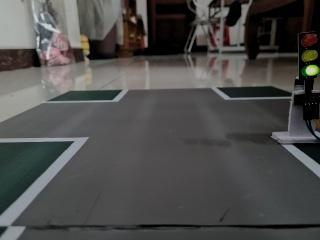green: (293, 29, 319, 85)
